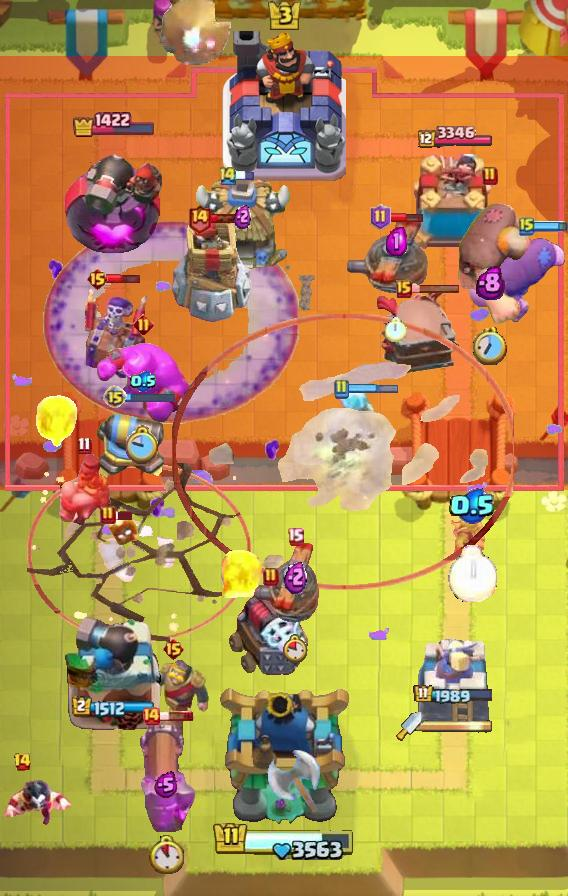balloon: (452, 187, 528, 327), (466, 226, 568, 326)
bar: (416, 637, 490, 731)
bat: (332, 385, 376, 421)
bomber: (107, 515, 139, 547)
clock: (212, 821, 356, 863)
clone: (92, 340, 194, 424)
dark-prince: (337, 216, 455, 302), (250, 540, 340, 624)
dart-goblin: (375, 293, 460, 375)
electro-spirit: (449, 488, 495, 524), (476, 265, 504, 299), (285, 560, 308, 594), (154, 771, 178, 799), (385, 227, 406, 256), (130, 371, 157, 392), (233, 203, 250, 228)
elite-barbarian: (54, 452, 114, 526)
elixir: (447, 546, 497, 602), (149, 834, 184, 874), (126, 425, 160, 464), (473, 327, 507, 365), (284, 633, 309, 662), (385, 318, 407, 343)
emote: (347, 383, 398, 395), (125, 391, 176, 403), (409, 283, 461, 294), (106, 272, 142, 285), (158, 710, 194, 722), (388, 213, 424, 224), (532, 220, 568, 231), (208, 213, 243, 224), (237, 169, 256, 181), (114, 511, 134, 522)
firecracker: (136, 660, 210, 723)
fisherman: (294, 275, 317, 325)
furnace: (135, 718, 197, 832)
golem: (226, 586, 316, 678)
guard: (27, 462, 251, 641)
king-tower: (216, 684, 352, 826), (222, 31, 346, 181)
king-tower-bar: (422, 719, 494, 733)
lumberjack: (0, 776, 76, 830)
prince: (191, 179, 293, 275)
queen-tower: (405, 154, 501, 256)
rocket: (43, 220, 299, 424)
royal-ghost: (172, 314, 514, 590)
royal-giant: (265, 747, 323, 819)
royal-recruit: (93, 399, 165, 483)
selected: (71, 111, 156, 138), (416, 126, 493, 150), (72, 696, 156, 718), (414, 684, 495, 706)
skeleton-king-bar: (81, 284, 147, 378)
text: (188, 203, 213, 234), (103, 385, 127, 409), (86, 267, 109, 291), (162, 637, 185, 661), (369, 204, 390, 230), (133, 313, 154, 335), (218, 166, 238, 187), (141, 706, 161, 726), (12, 752, 31, 772), (288, 526, 305, 545), (482, 166, 498, 186), (519, 216, 535, 236), (333, 379, 349, 399), (100, 505, 116, 525), (263, 567, 279, 587), (396, 280, 412, 298), (76, 437, 91, 455)
tower-bar: (63, 615, 165, 731), (64, 138, 164, 256)
valkyrie: (31, 392, 82, 454), (218, 544, 265, 602)
x-bow: (160, 0, 246, 68)
zap: (451, 514, 493, 558)
zappy: (172, 218, 254, 324)
